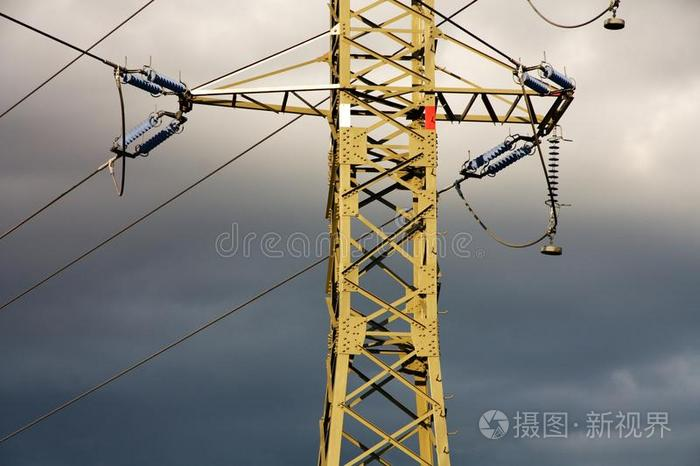insulator: (124, 113, 181, 150), (470, 139, 533, 171), (123, 71, 187, 96), (519, 70, 574, 95), (547, 139, 562, 202)
